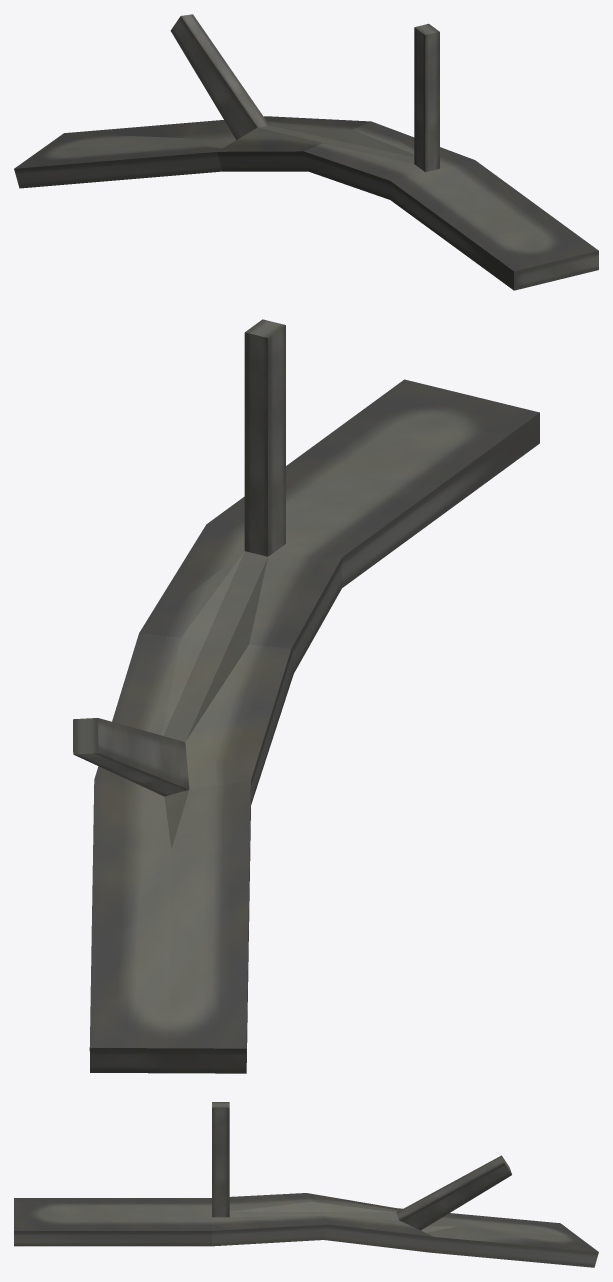
File: LP_LAMPCROOKED.fbx
The picture shows the model from 3 angles, top to bottom: view 1: azimuth 30°, elevation 25°; view 2: azimuth 150°, elevation 25°; view 3: azimuth 270°, elevation 25°; orthographic projection. The views are drawn at different scales.
Parts seen in each view (by area): view 1: Cube; view 2: Cube; view 3: Cube.
Boxes of the visible parts, x1=… form: Cube: x1=14, y1=14, x2=598, y2=290; Cube: x1=73, y1=319, x2=539, y2=1073; Cube: x1=14, y1=1102, x2=598, y2=1267.
Bounding box in the file's own units: 573 × 595 × 1493.
